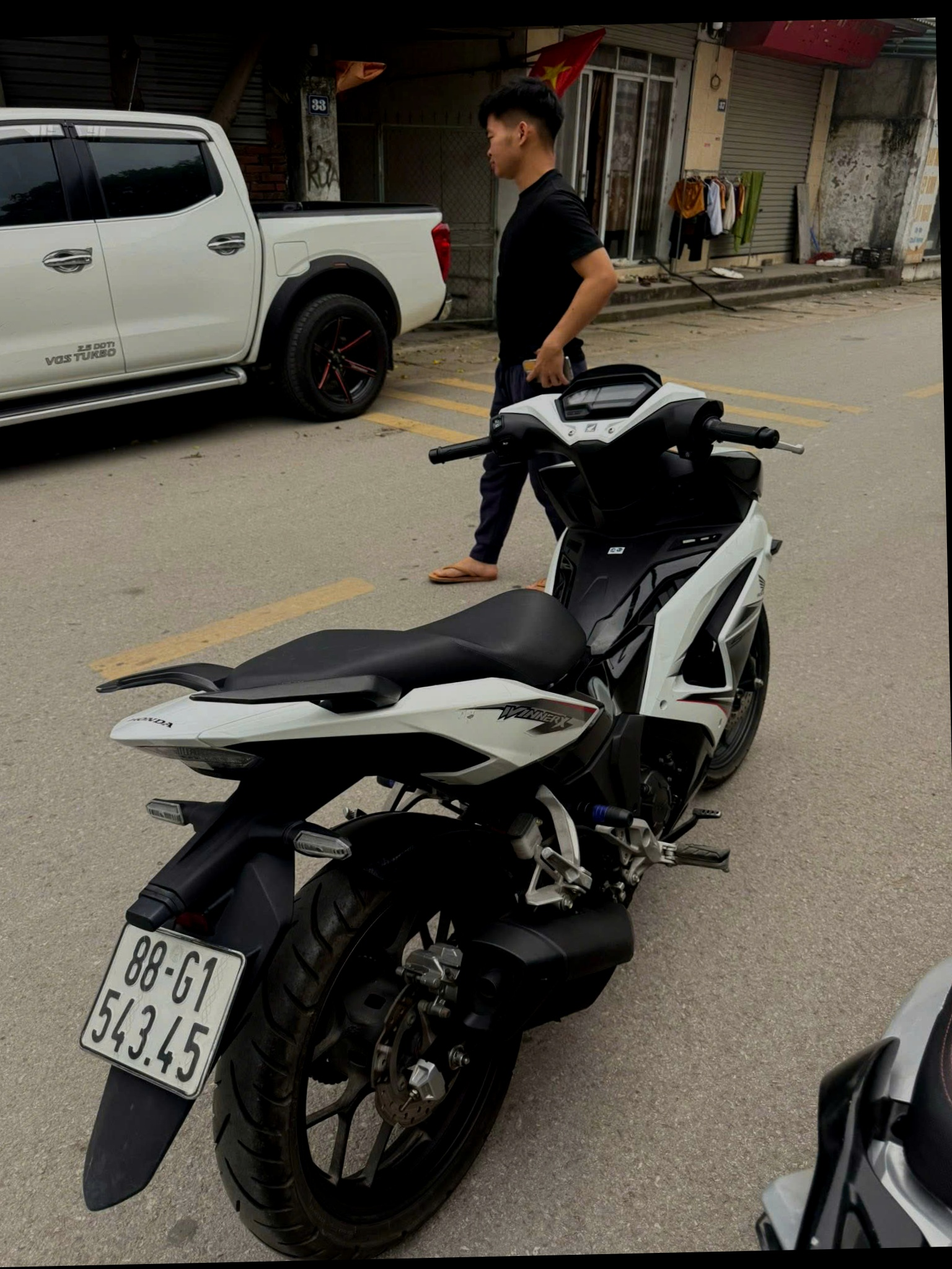Bien-so: (87, 911, 265, 1112)
